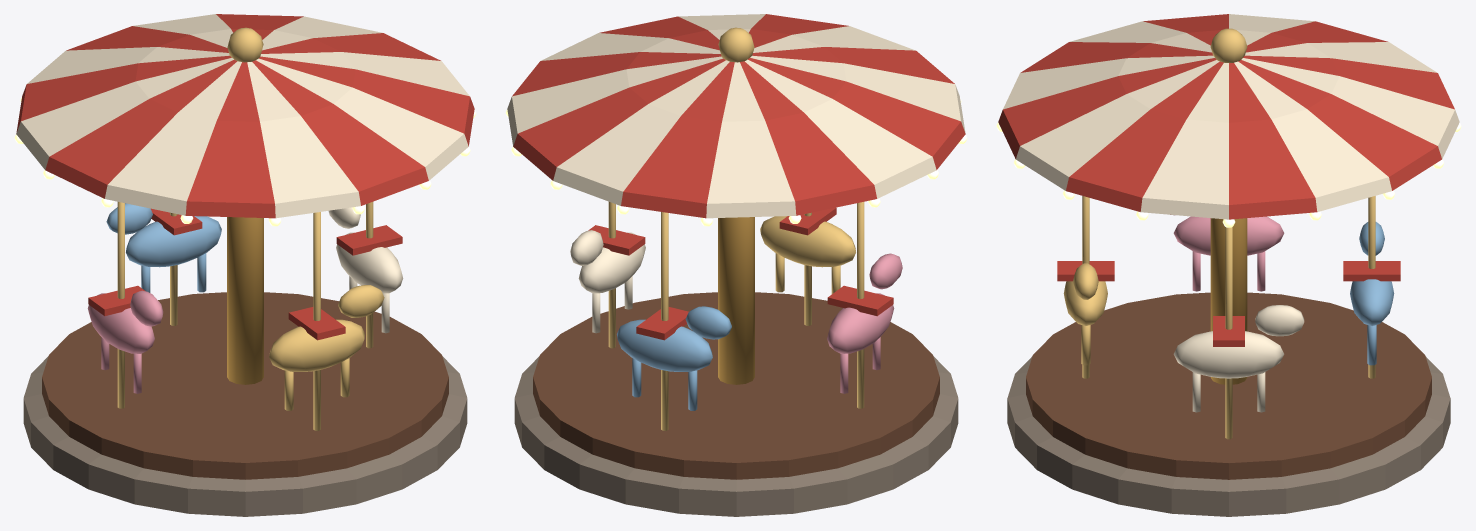
Rendered from carousel.glb.
3 views of the same model, side by side, from view 1: azimuth 30°, elevation 25°; view 2: azimuth 150°, elevation 25°; view 3: azimuth 270°, elevation 25° (orthographic).
Visible parts, largest first — view 1: canopy, platform, base, pole, hb-3, hb-1, hb-0, hb-2, horse-pole-3, horse-pole-2, saddle-0, hh-3 (+7 smaller); view 2: canopy, platform, base, pole, hb-1, hb-3, hb-2, hb-0, horse-pole-1, horse-pole-2, saddle-2, hh-1 (+7 smaller); view 3: canopy, platform, base, hb-0, pole, hb-2, hb-1, horse-pole-0, hb-3, hh-0, saddle-1, top (+5 smaller).
Part boxes in pixels (<box>): canopy: <box>16,14,474,218</box>; platform: <box>42,292,448,479</box>; base: <box>23,356,467,516</box>; pole: <box>227,217,263,384</box>; hb-3: <box>269,319,364,371</box>; hb-1: <box>126,216,221,267</box>; hb-0: <box>336,232,403,293</box>; hb-2: <box>87,293,154,353</box>; horse-pole-3: <box>313,212,320,430</box>; horse-pole-2: <box>117,202,124,408</box>; saddle-0: <box>336,225,402,255</box>; hh-3: <box>338,285,384,317</box>; canopy: <box>507,14,965,218</box>; platform: <box>533,292,939,479</box>; base: <box>514,356,958,516</box>; pole: <box>718,217,754,384</box>; hb-1: <box>617,319,712,371</box>; hb-3: <box>760,216,855,267</box>; hb-2: <box>827,293,894,353</box>; hb-0: <box>578,232,645,293</box>; horse-pole-1: <box>661,212,668,430</box>; horse-pole-2: <box>857,202,864,408</box>; saddle-2: <box>827,285,893,316</box>; hh-1: <box>685,306,731,339</box>; canopy: <box>998,14,1459,219</box>; platform: <box>1026,292,1431,479</box>; base: <box>1007,356,1450,516</box>; hb-0: <box>1173,331,1284,378</box>; pole: <box>1210,218,1247,384</box>; hb-2: <box>1173,216,1284,255</box>; hb-1: <box>1350,279,1394,325</box>; horse-pole-0: <box>1225,227,1232,439</box>; hb-3: <box>1063,281,1107,325</box>; hh-0: <box>1255,305,1304,336</box>; saddle-1: <box>1343,261,1400,281</box>; top: <box>1210,28,1247,62</box>.
Bounding box in the file's own units: 5.02 × 4.7 × 5.04.
